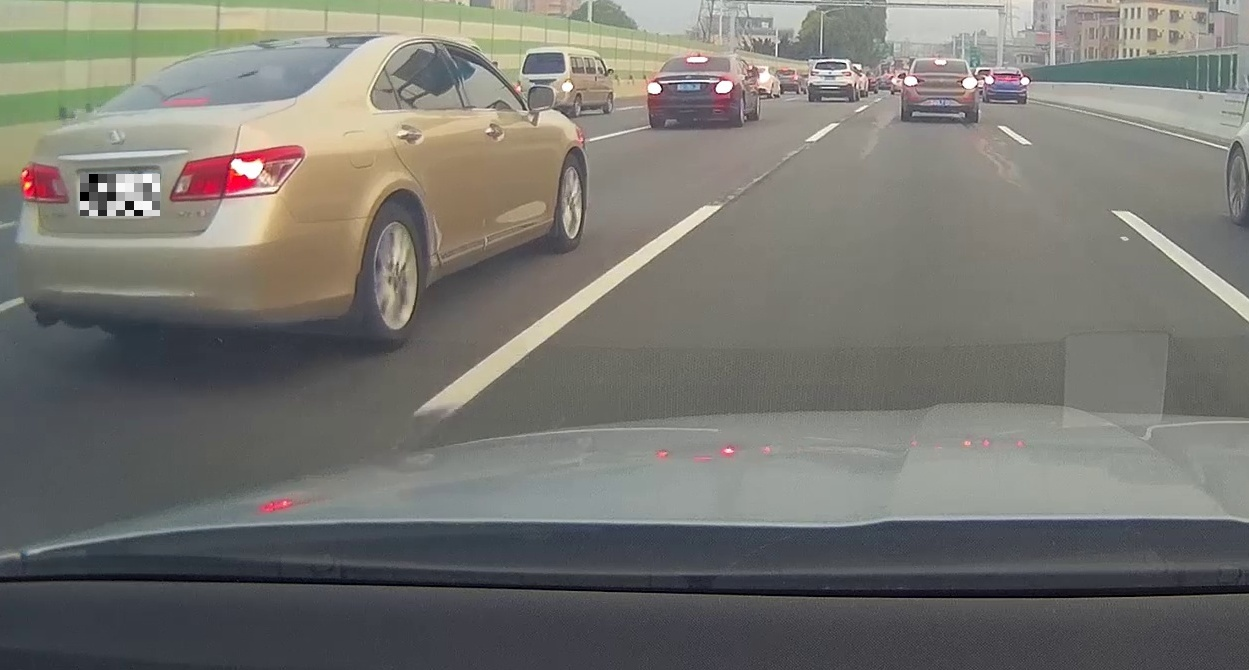L_light: (19, 159, 70, 203), (646, 82, 663, 95), (903, 75, 919, 87)
R_light: (168, 144, 306, 203), (714, 80, 734, 94), (961, 77, 977, 89)
T_light: (162, 97, 208, 107), (686, 56, 708, 63), (934, 60, 947, 65)
day-brake: (12, 34, 366, 351), (646, 54, 736, 128), (902, 58, 978, 121)
plate_1: (80, 174, 160, 216)
